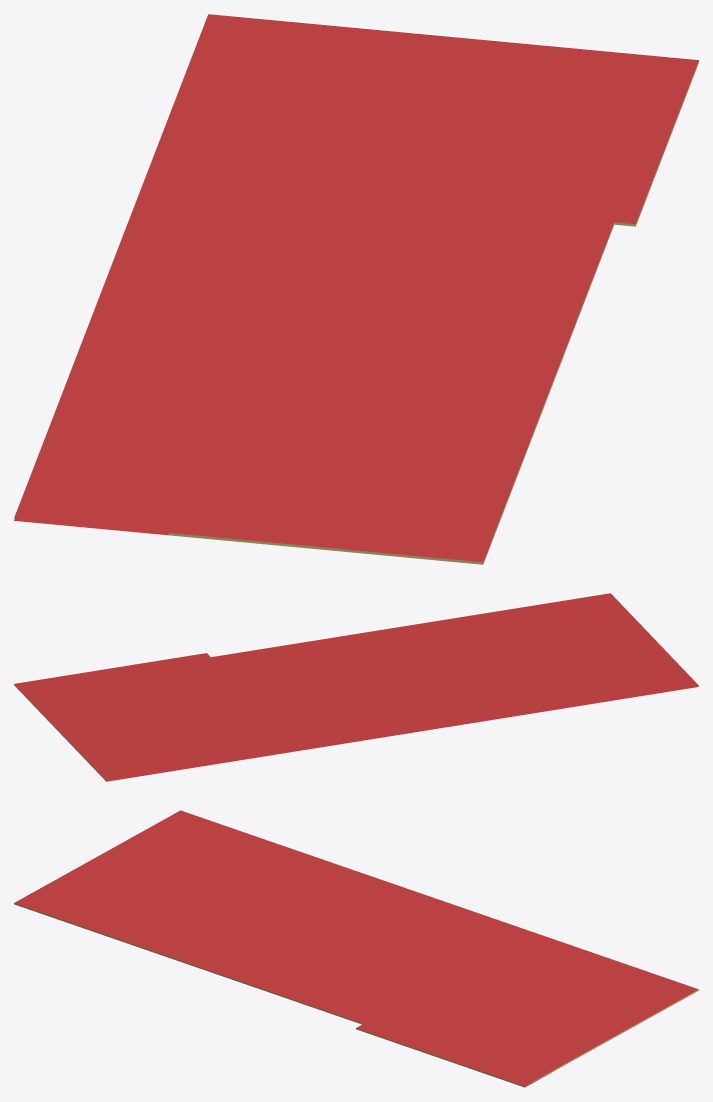
3 views of the same model, one above another, from view 1: azimuth 30°, elevation 25°; view 2: azimuth 150°, elevation 25°; view 3: azimuth 270°, elevation 25° (orthographic). The views are drawn at different scales.
Bounding box in the file's own units: 42.46 × 45.68 × 0.598.
